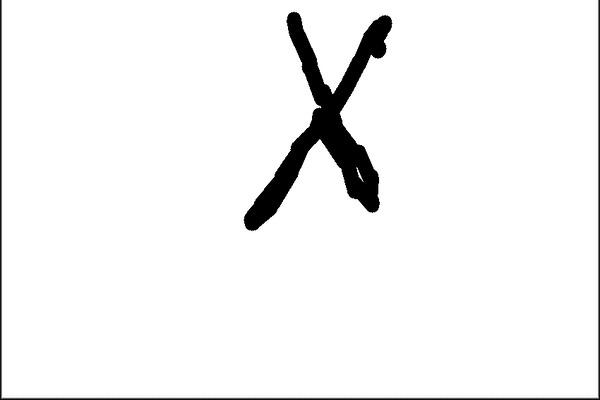X: (225, 0, 408, 234)
